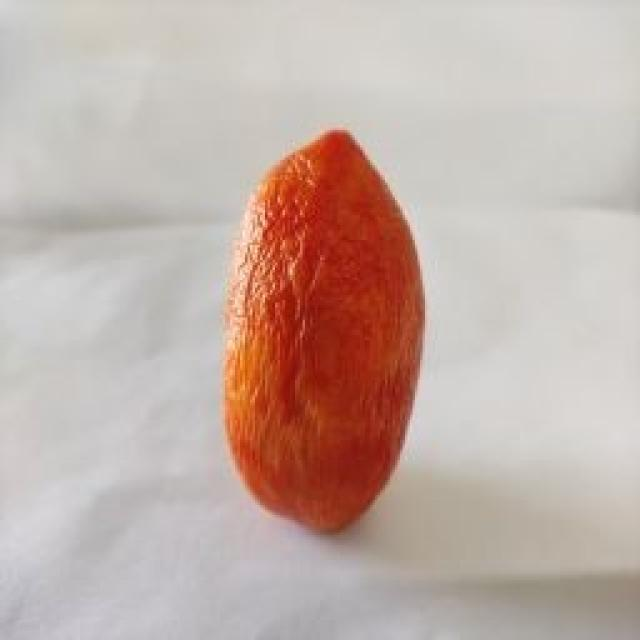overripe: (222, 121, 428, 540)
